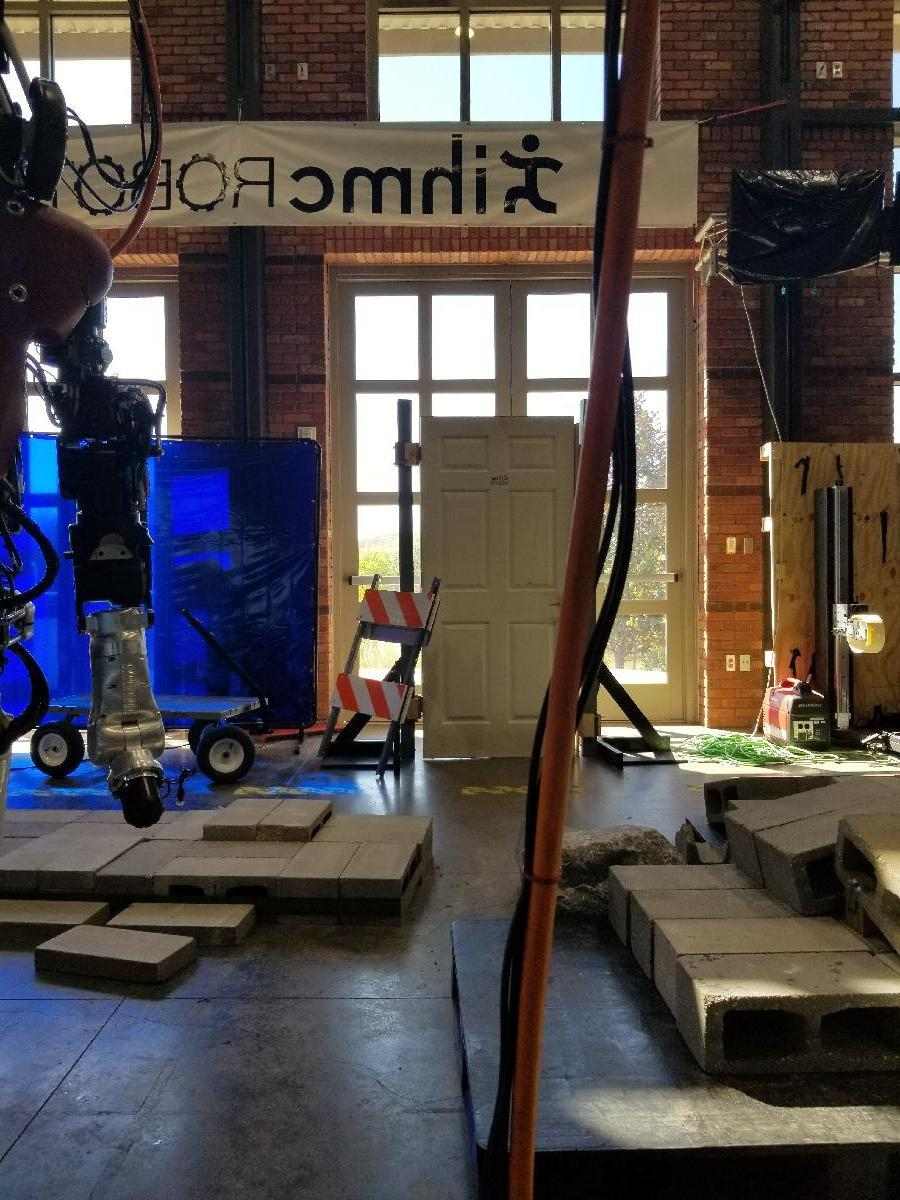door: (418, 413, 574, 763)
